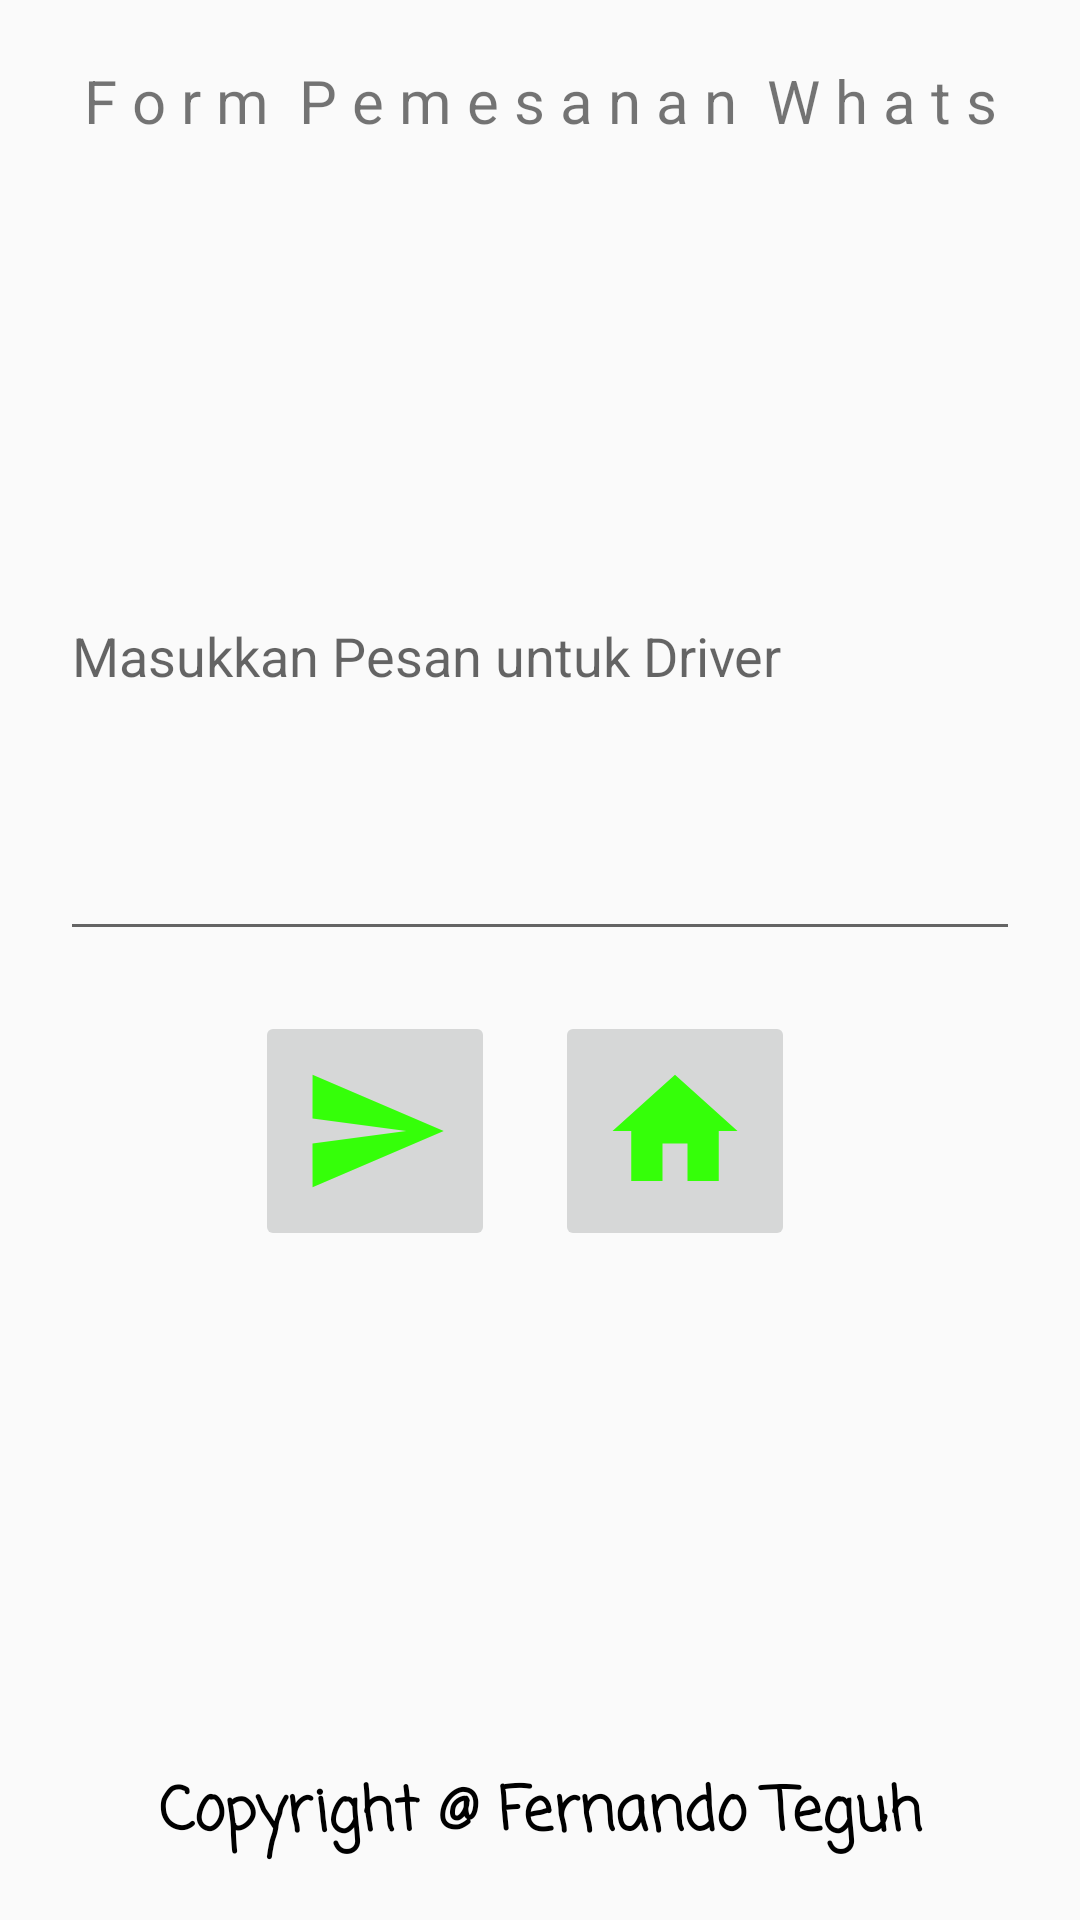

Named icons in this screenshot (1080×1920) and their centers, (x=x, y=y):
home: (x=675, y=1131)
send: (x=375, y=1131)
